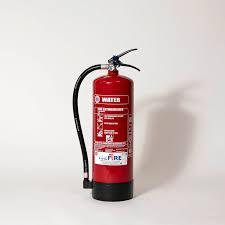fire-extinguisher: (69, 44, 150, 205)
